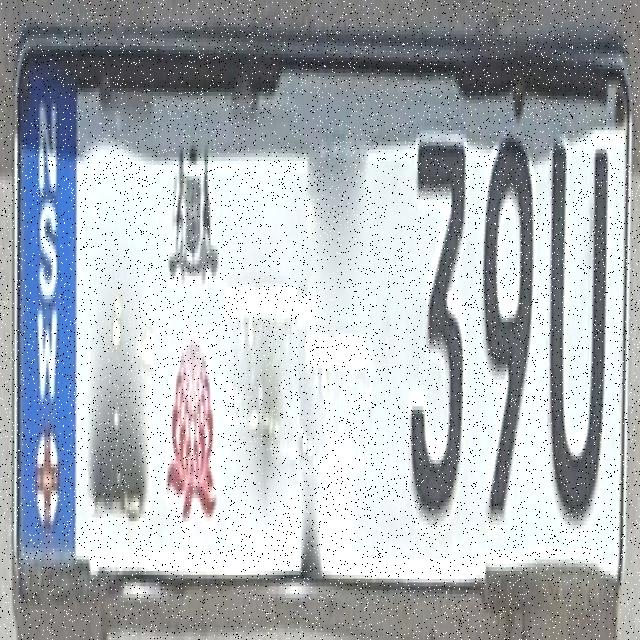licenseplate: (11, 33, 638, 618)
